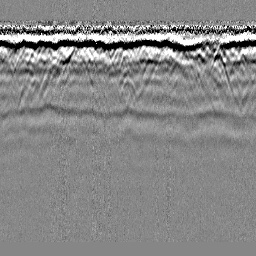cavity: (119, 75, 138, 98)
